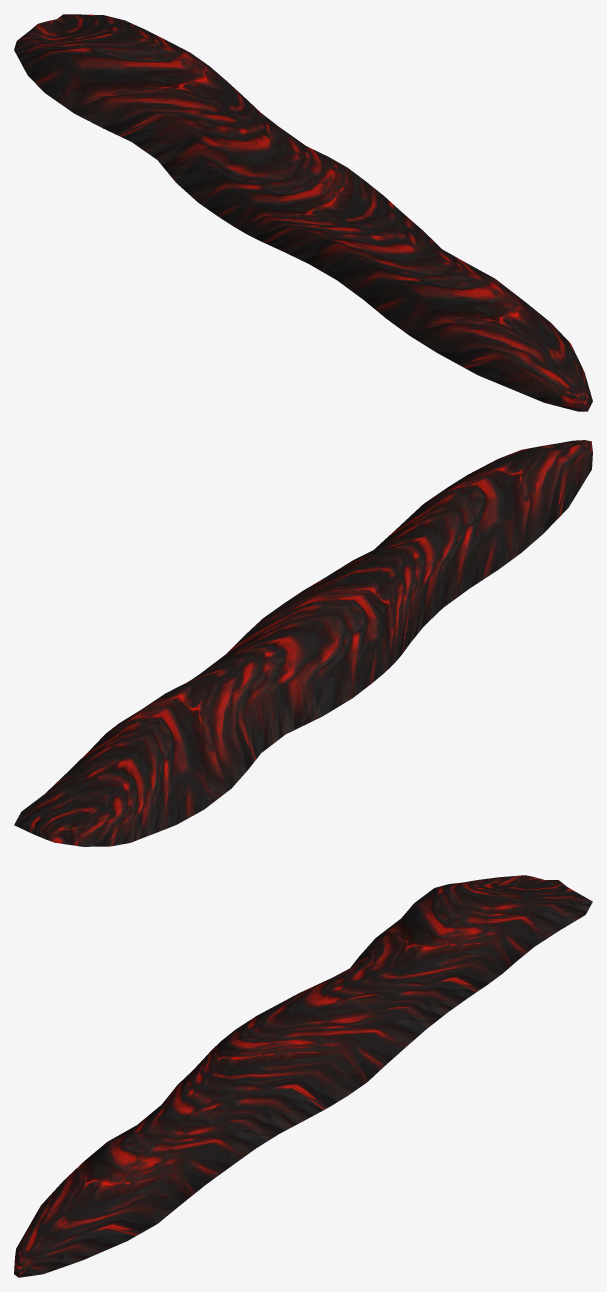
File: SM_Env_Lava_River_03.fbx
3 views of the same model, one above another, from view 1: azimuth 30°, elevation 25°; view 2: azimuth 150°, elevation 25°; view 3: azimuth 330°, elevation 25° (orthographic).
Parts seen in each view (by area): view 1: SM_Env_Lava_River_03; view 2: SM_Env_Lava_River_03; view 3: SM_Env_Lava_River_03.
Part boxes in pixels (left/top/right/bottom): SM_Env_Lava_River_03: left=14, top=14, right=592, bottom=411; SM_Env_Lava_River_03: left=14, top=440, right=592, bottom=846; SM_Env_Lava_River_03: left=14, top=875, right=592, bottom=1277.
Size of the model in its own units: 564 by 171 by 3677.
